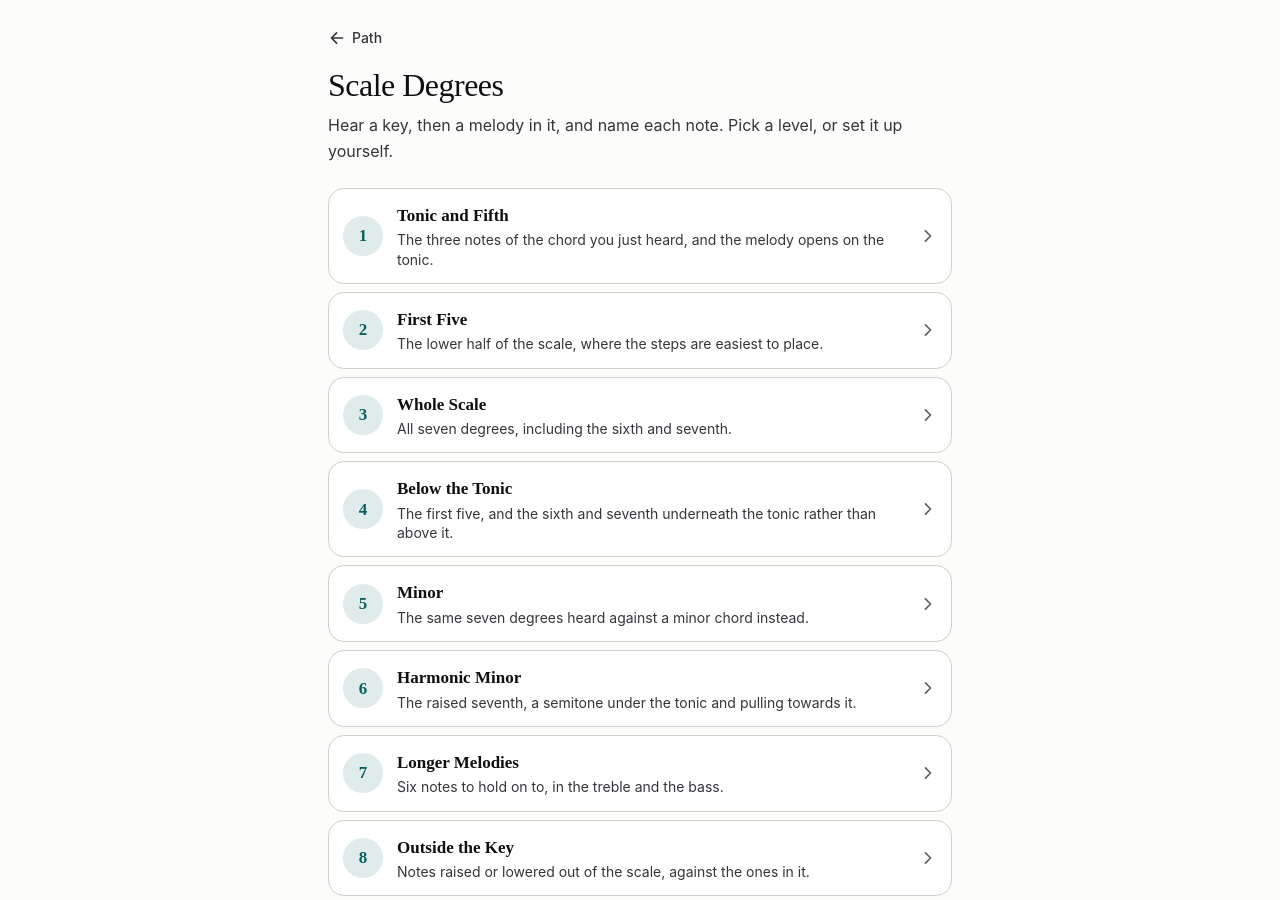
Scale Degrees › takes a key back
Click the text "First Five": coordinates (432, 319) [397, 310, 467, 329]
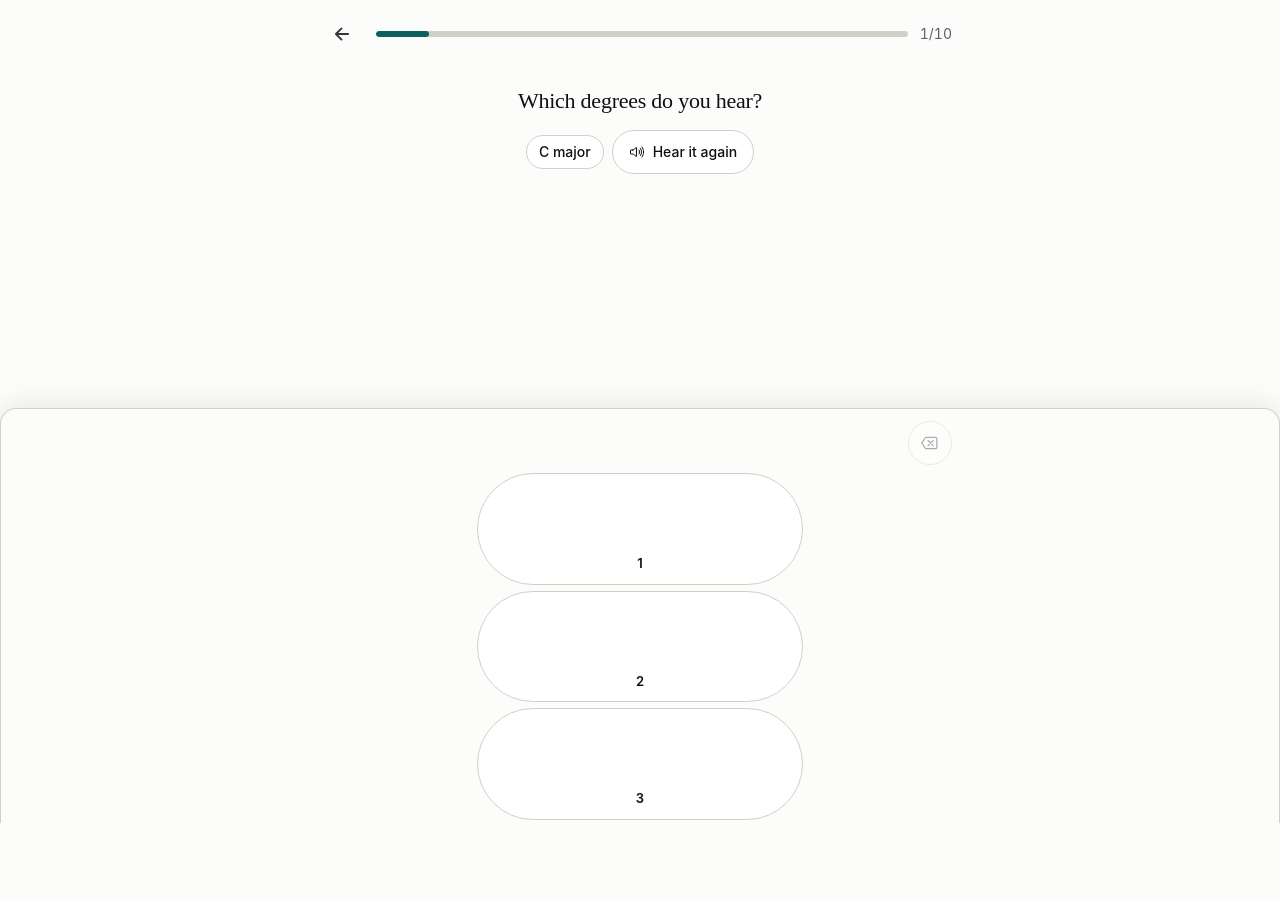
Expected: the 2nd button named "Delete the last one" is disabled, [908, 421, 952, 465]
Click the button named "first degree": coordinates (640, 529) [477, 473, 803, 585]
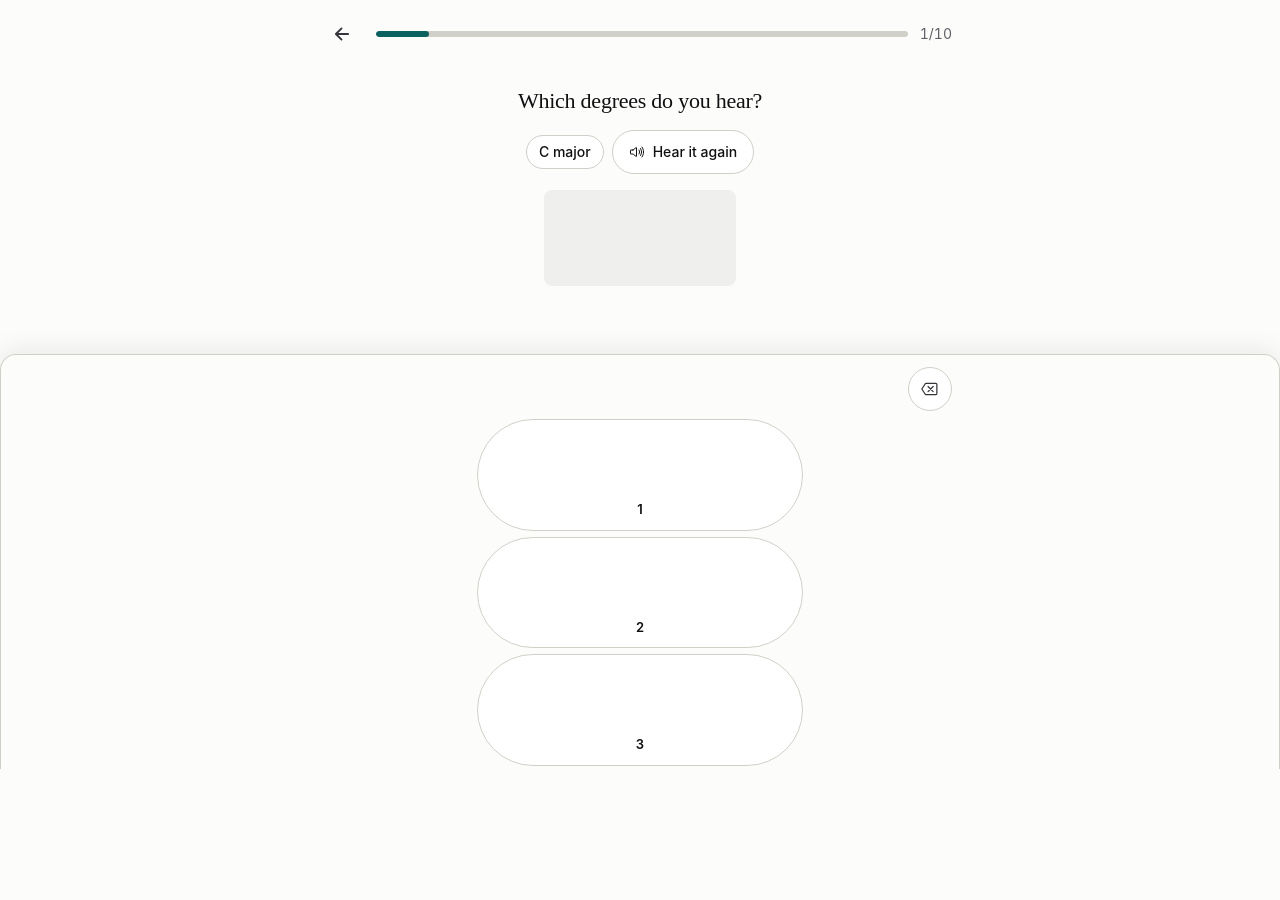
Expected: the 2nd button named "Delete the last one" is enabled
Click the 2nd button named "Delete the last one": coordinates (930, 389) [908, 367, 952, 411]
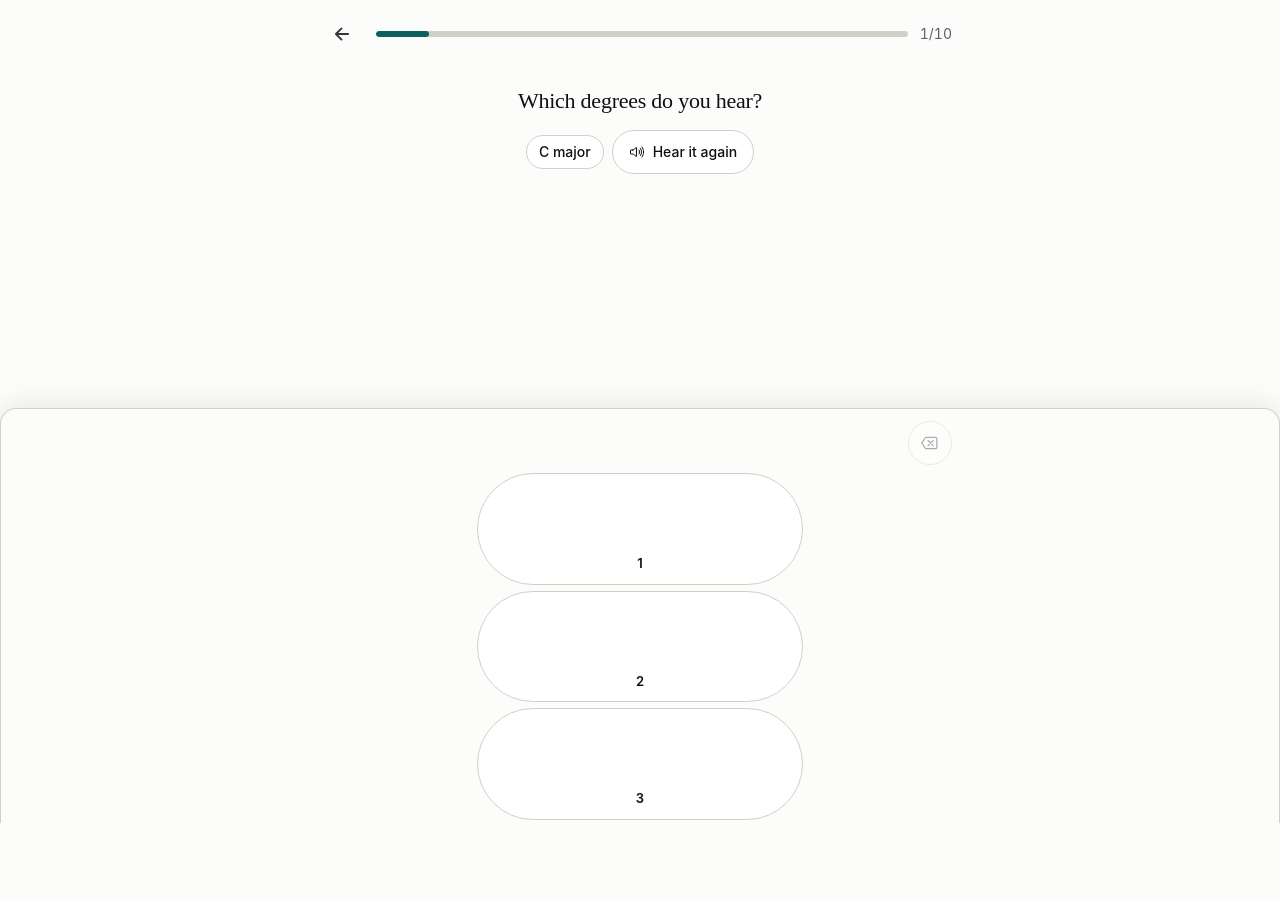
Expected: the 2nd button named "Delete the last one" is disabled, [908, 421, 952, 465]
